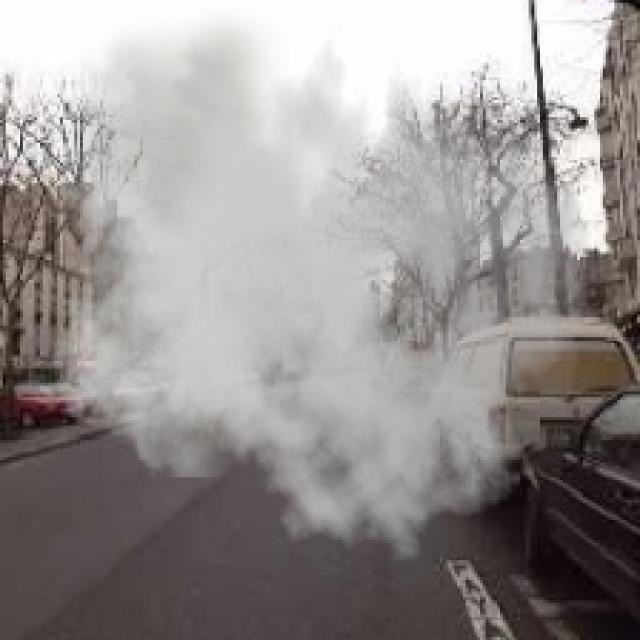Smoke: (34, 3, 592, 563)
